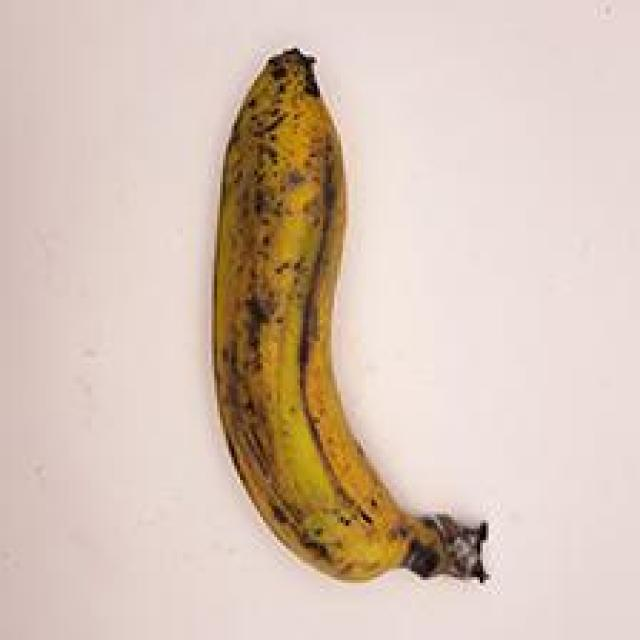Overripe: (169, 31, 508, 606)
